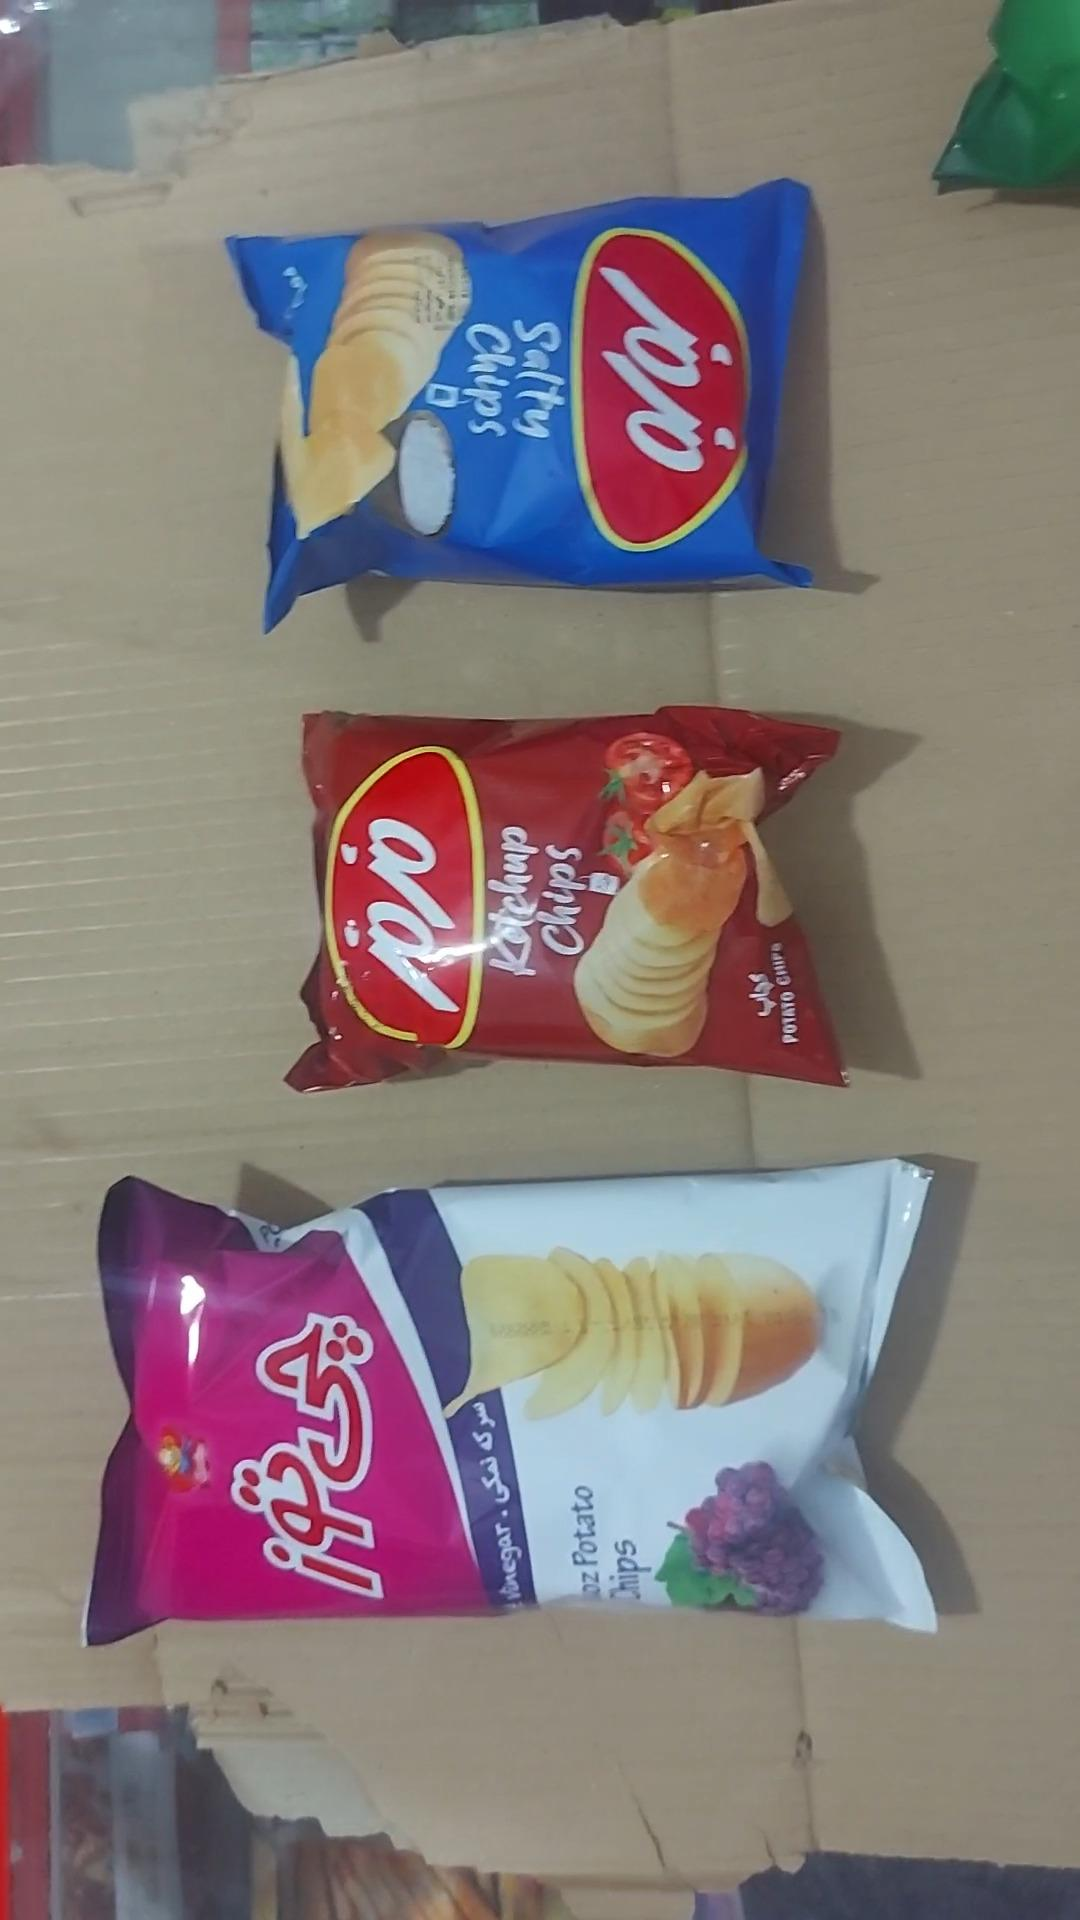Cheetoz vinegar chips: (83, 1160, 938, 1648)
Maz Maz ketchup chips: (284, 705, 849, 1095)
Maz Maz salty chips: (225, 179, 814, 633)
